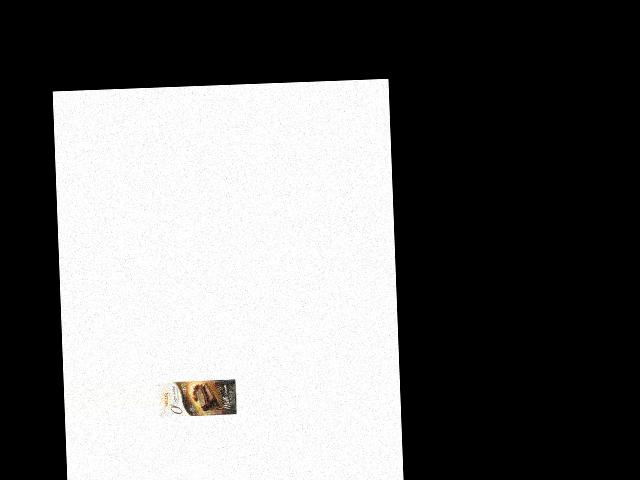chocolate: (157, 377, 237, 419)
